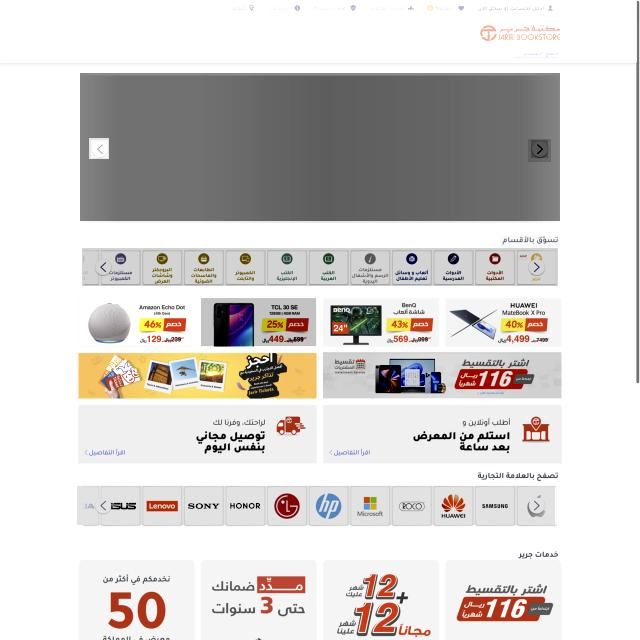CheckedTextView: (88, 24, 472, 44)
Switch: (80, 73, 560, 221), (77, 486, 555, 525), (82, 248, 558, 286)
alert: (513, 49, 559, 60)
bag: (0, 0, 637, 63)
breadcrumbs: (500, 235, 559, 247)
carousel: (528, 139, 551, 162), (91, 140, 108, 158), (456, 31, 464, 38)
copy: (78, 353, 318, 399), (323, 352, 561, 398), (79, 298, 194, 346), (201, 298, 316, 346)
date picker: (478, 22, 563, 46)
decoration: (227, 2, 559, 15), (89, 138, 109, 159), (531, 140, 548, 158)
footer: (438, 30, 455, 40)
